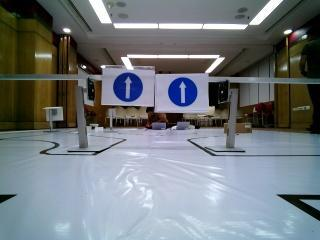straight: (99, 66, 152, 106), (154, 75, 210, 111)
